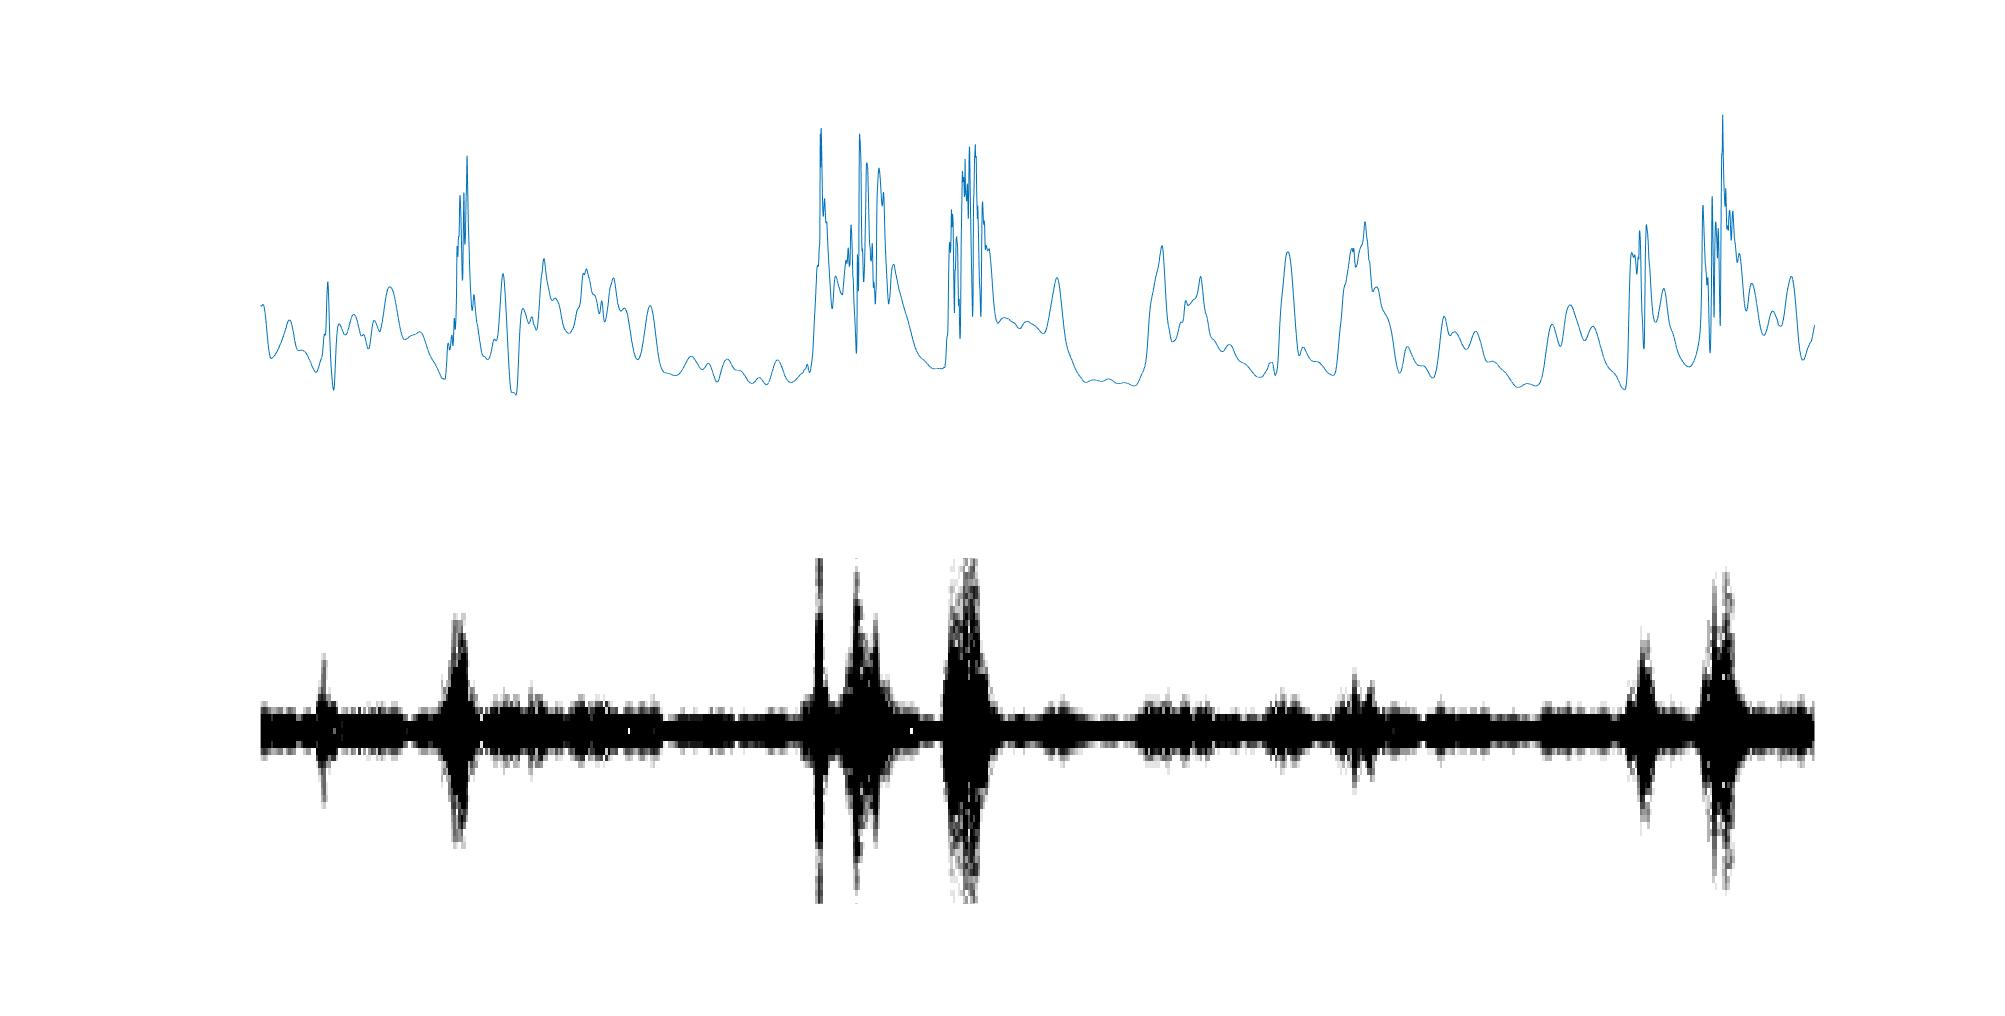spot: (940, 560, 997, 905), (1698, 573, 1750, 895), (806, 556, 834, 908), (442, 616, 477, 851)
